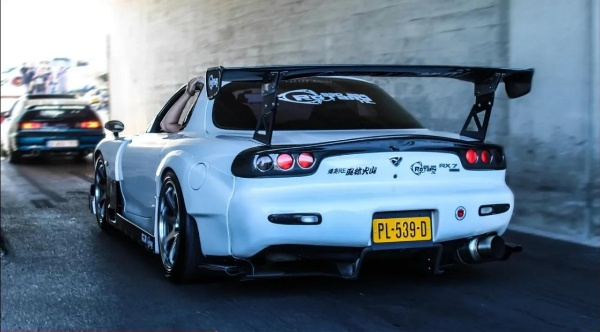licence: (368, 212, 436, 246)
